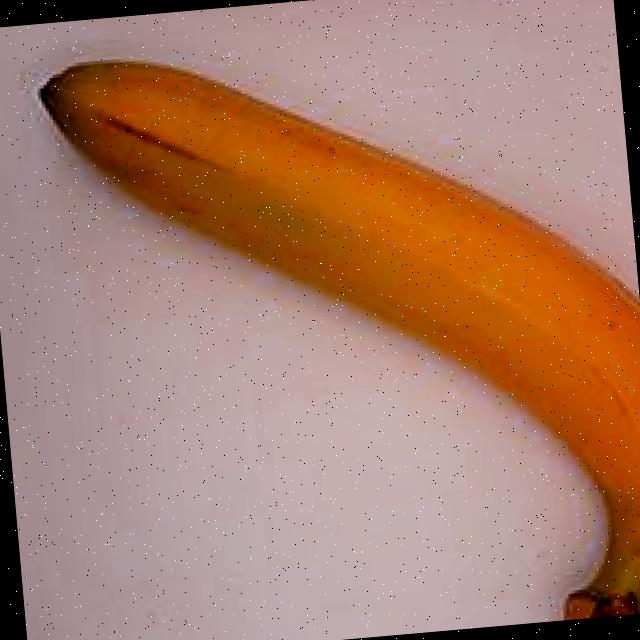Ripe: (17, 2, 640, 640)
